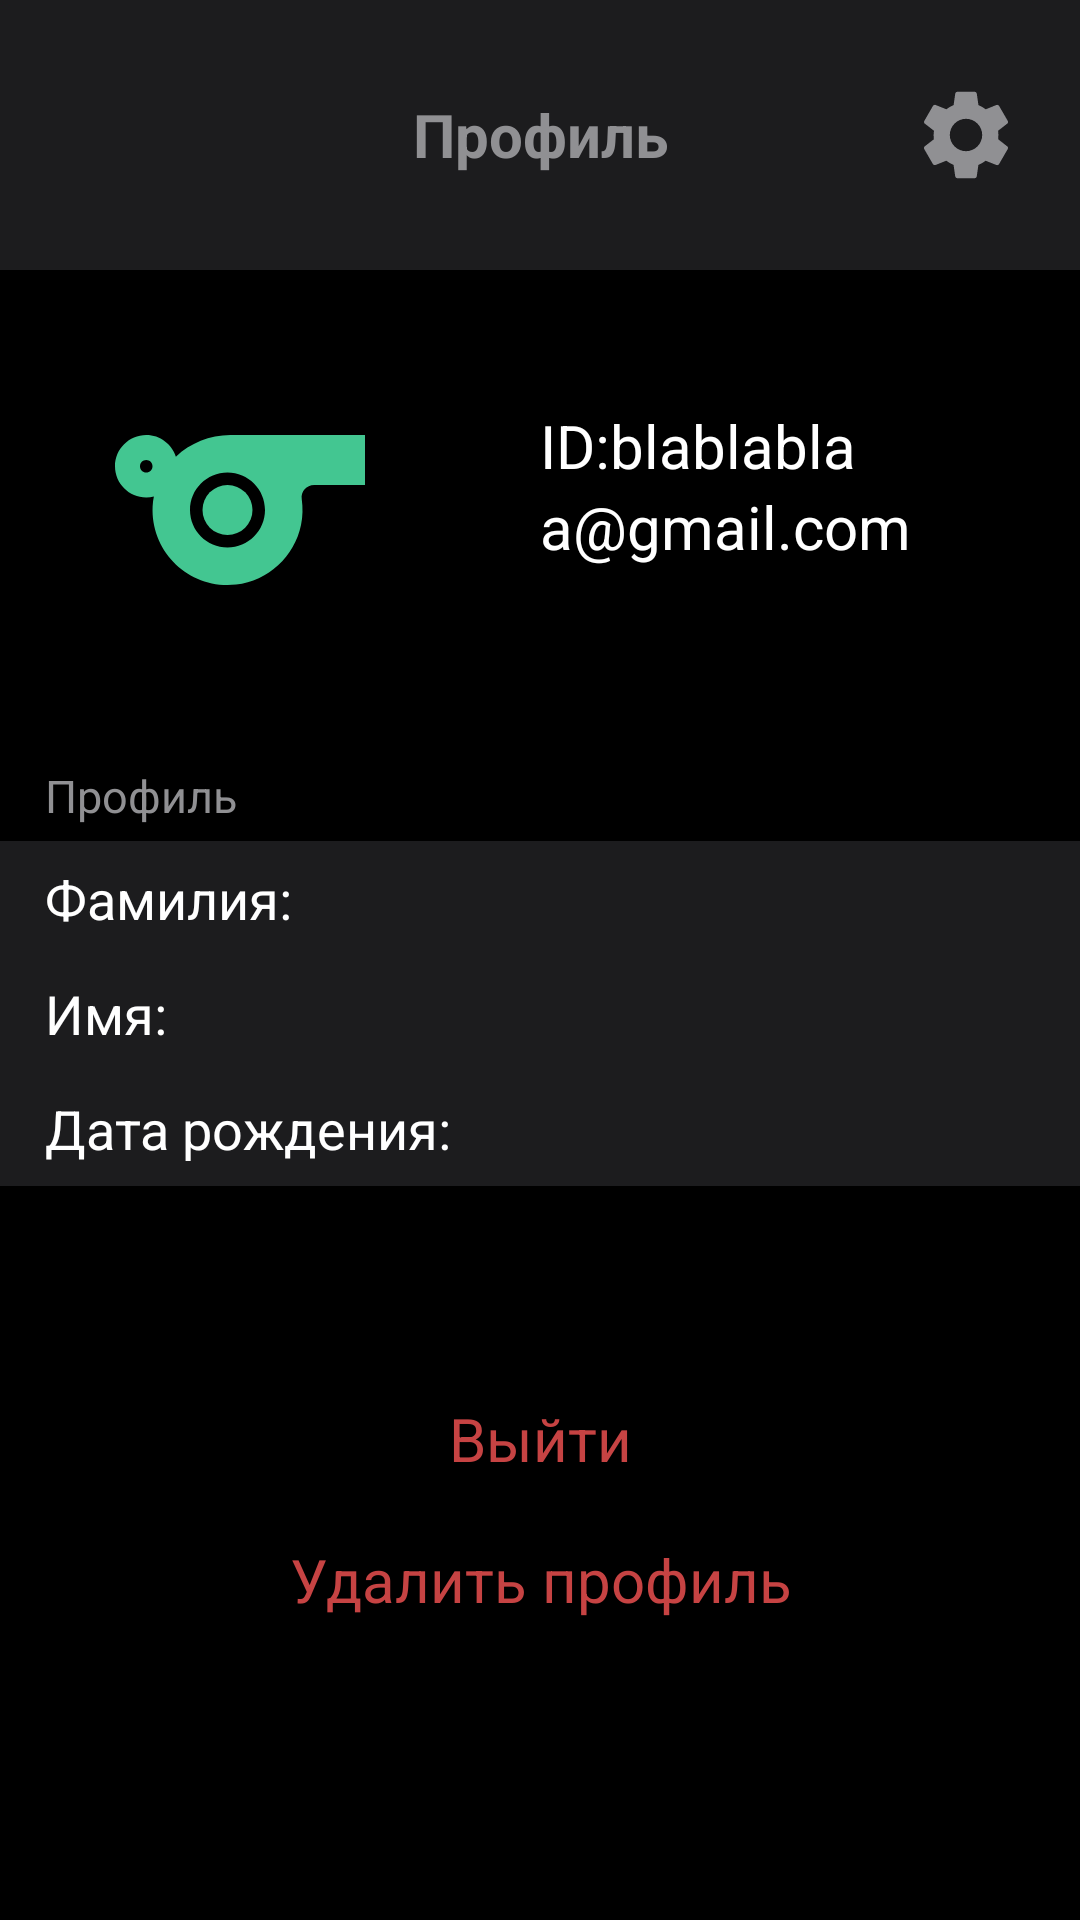

Icon click points for this 1080*1920 phone screenshot, format point (x, y):
coach: point (240, 510)
settings: point (966, 135)
